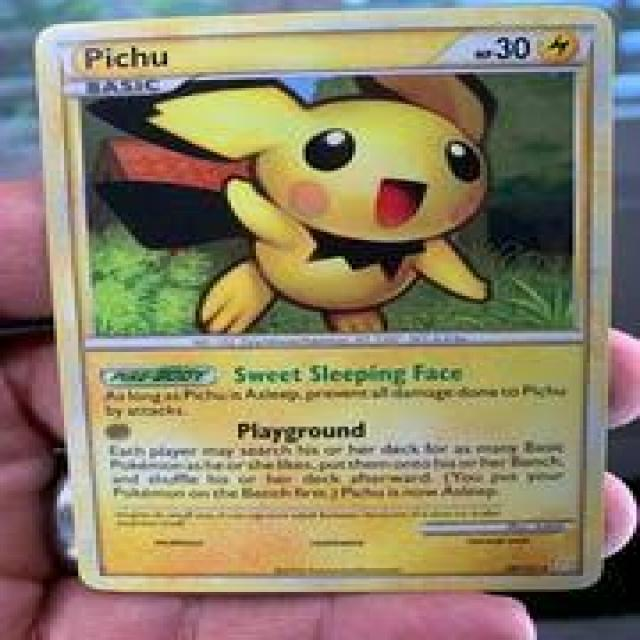pichu: (126, 71, 526, 352)
